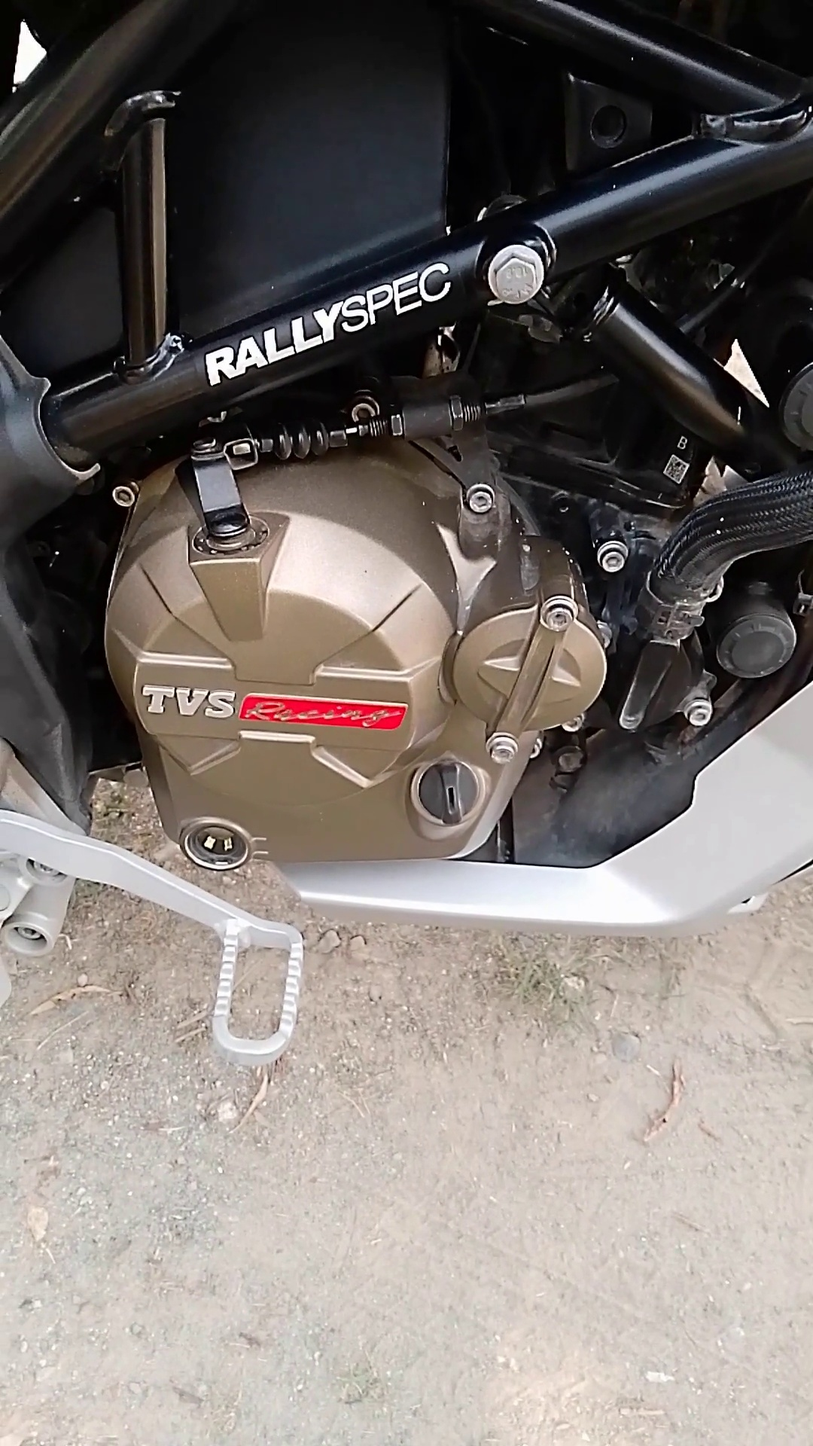bike-engine: (110, 429, 600, 878)
bike-engine-level: (179, 817, 254, 872)
bike-oil-cap: (403, 753, 487, 835)
